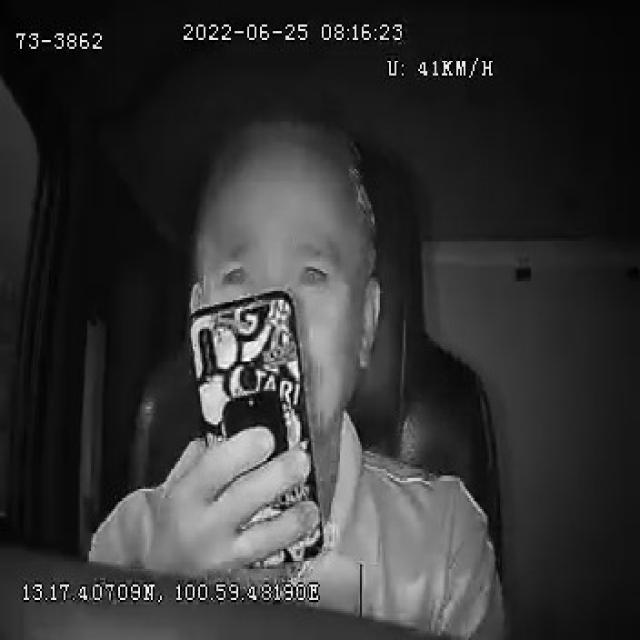phone: (184, 290, 324, 568)
